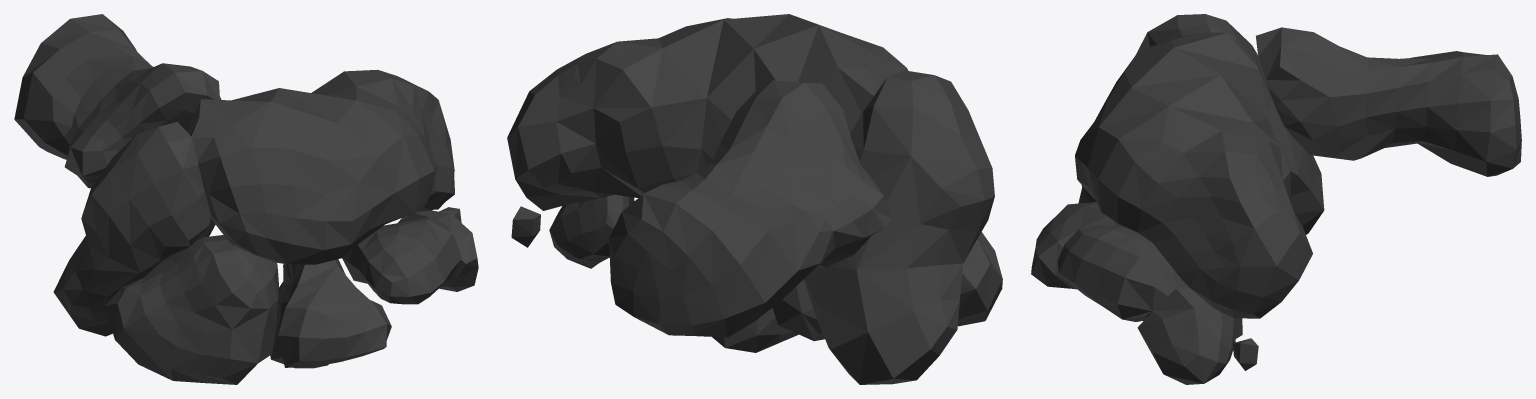
File: Carpals_R.glb
3 views of the same model, side by side, from view 1: azimuth 30°, elevation 25°; view 2: azimuth 150°, elevation 25°; view 3: azimuth 270°, elevation 25° (orthographic). The views are drawn at different scales.
Parts seen in each view (by area): view 1: Carpals_R; view 2: Carpals_R; view 3: Carpals_R.
Boxes of the visible parts, x1,y1,x2,y2 form: Carpals_R: (14,14,478,384); Carpals_R: (507,14,1002,384); Carpals_R: (1031,14,1521,384).
Size of the model in its own units: 1.97 by 1.36 by 2.14.
1 material, 1 textured.
